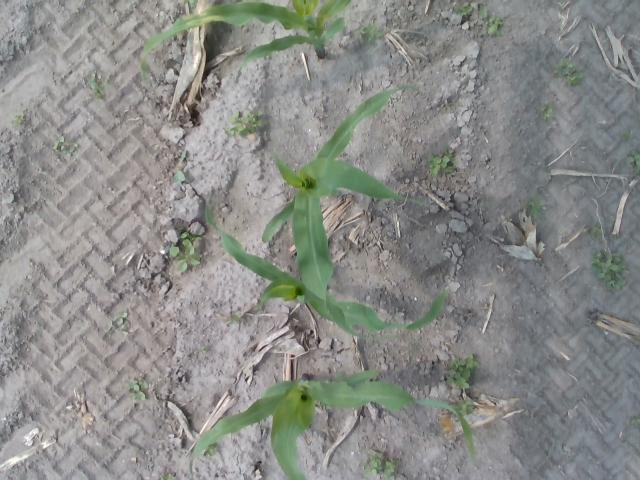Maize: (262, 85, 424, 340), (203, 196, 445, 332), (192, 369, 478, 480), (140, 0, 350, 78)
Weeds: (593, 250, 628, 289), (167, 232, 200, 273), (364, 452, 402, 480), (228, 111, 268, 135), (425, 150, 457, 176), (555, 60, 585, 85), (479, 9, 503, 35), (361, 22, 385, 42), (446, 368, 471, 387), (625, 148, 640, 168), (128, 383, 146, 399), (460, 355, 480, 369), (530, 196, 544, 216), (92, 75, 105, 96), (115, 312, 129, 330), (172, 170, 186, 188), (588, 222, 602, 240), (541, 104, 553, 122), (11, 115, 26, 128), (460, 401, 472, 414), (54, 138, 67, 150), (460, 6, 472, 15), (622, 132, 632, 142), (130, 377, 142, 383)
